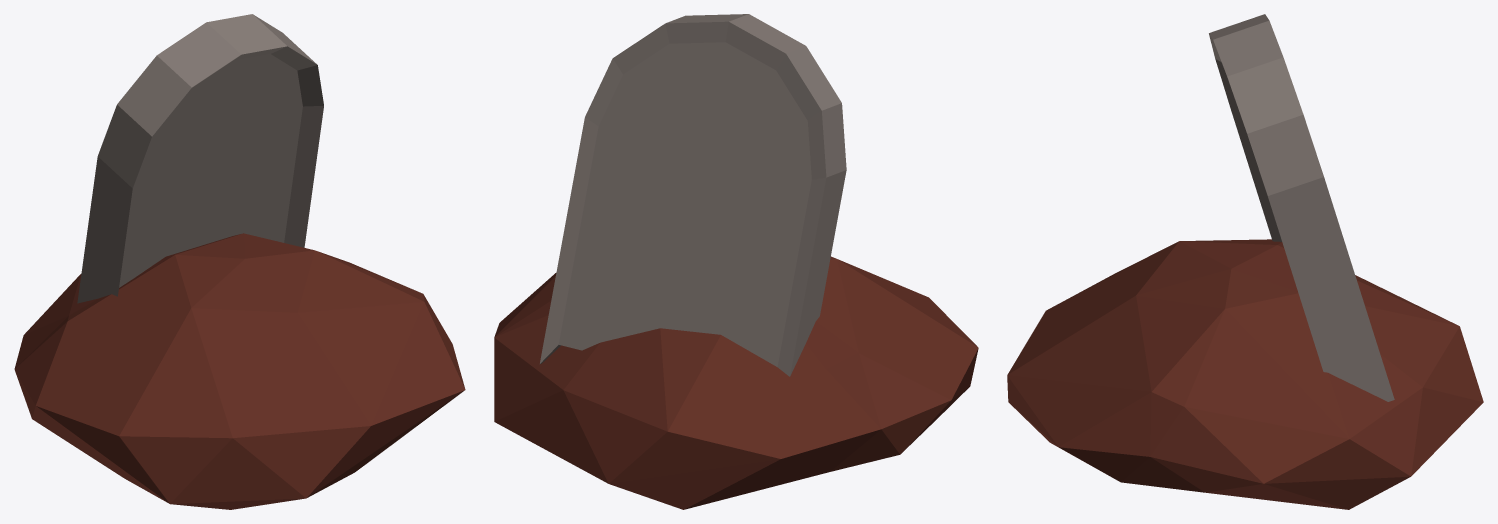
Rendered from C_Lapide3.fbx.
3 views of the same model, side by side, from view 1: azimuth 30°, elevation 25°; view 2: azimuth 150°, elevation 25°; view 3: azimuth 270°, elevation 25° (orthographic). The views are drawn at different scales.
Visible parts, largest first — view 1: Cylinder; view 2: Cylinder; view 3: Cylinder.
Part boxes in pixels (left/top/right/bottom): Cylinder: left=14, top=14, right=465, bottom=509; Cylinder: left=494, top=14, right=978, bottom=509; Cylinder: left=1007, top=14, right=1483, bottom=509.
Size of the model in its own units: 436 by 411 by 423.
